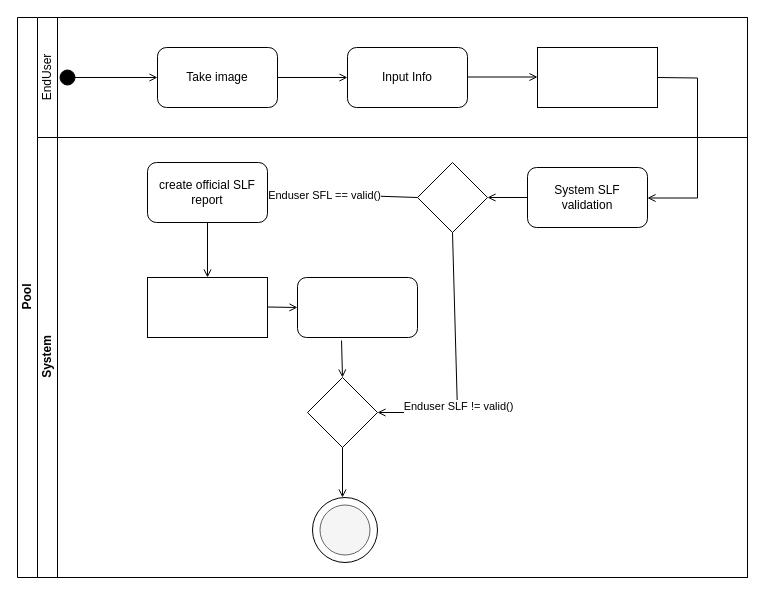
Some shapes in this 765 by 595 pixel diagram are drawn without their labels. The shapes that lost their labels are listed below. From the top down, each one's box as (x1, y1, x2, y2) in pixels, then its label:
(536, 46, 658, 108): Enduser SLF
(146, 276, 268, 338): SLF report
(296, 276, 418, 338): submit report
